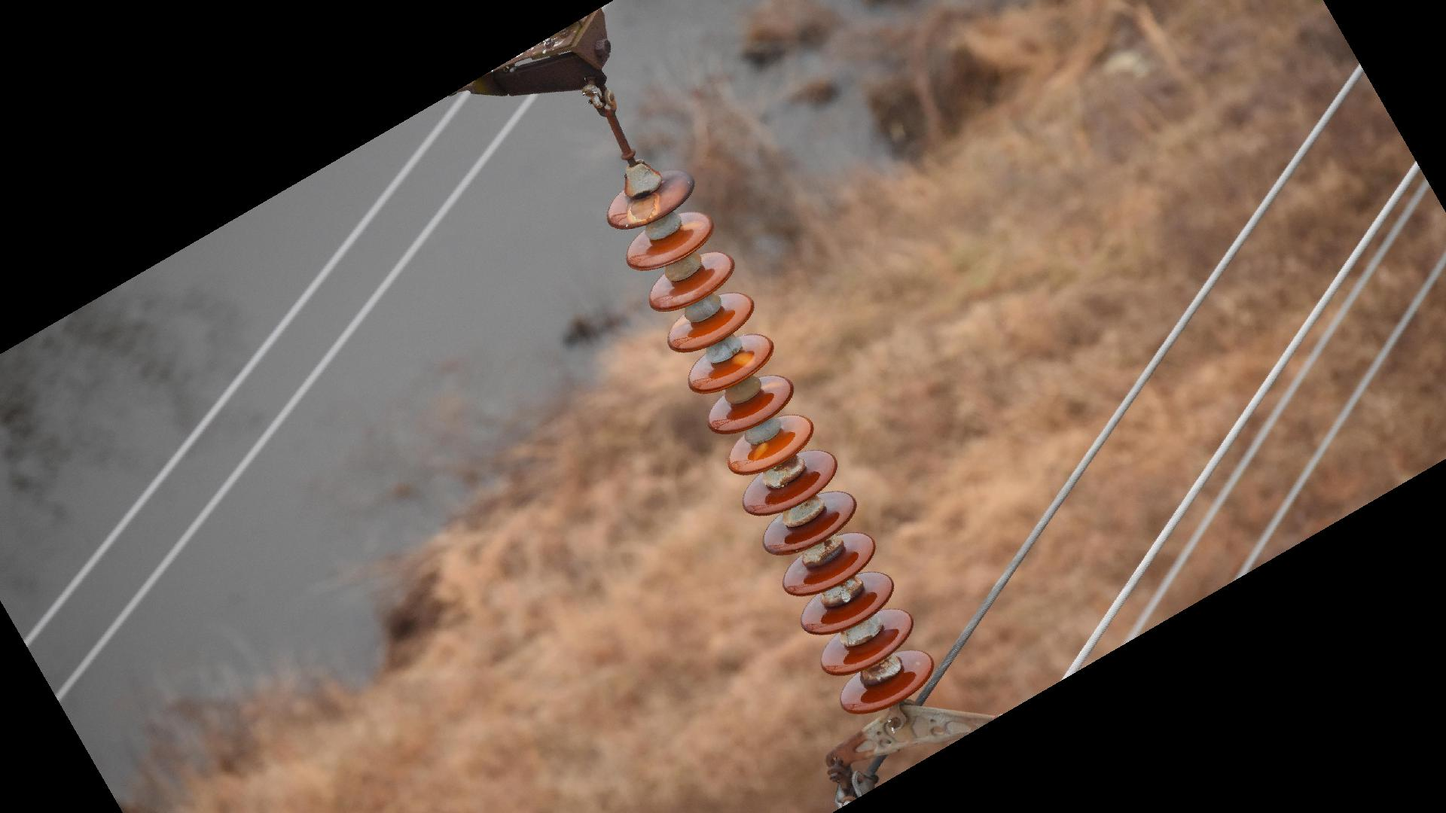insulator: (600, 161, 938, 720)
insulator_flashover: (623, 189, 663, 227), (728, 349, 760, 372), (747, 439, 773, 463)
